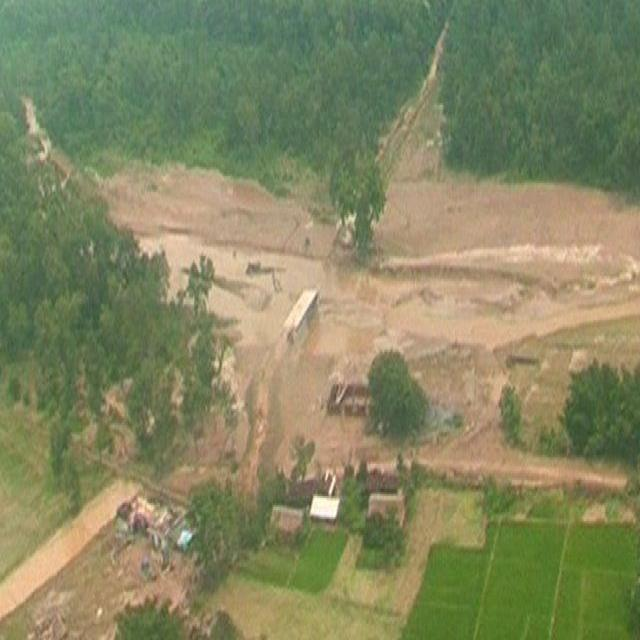flooded_areas: (48, 172, 637, 422)
